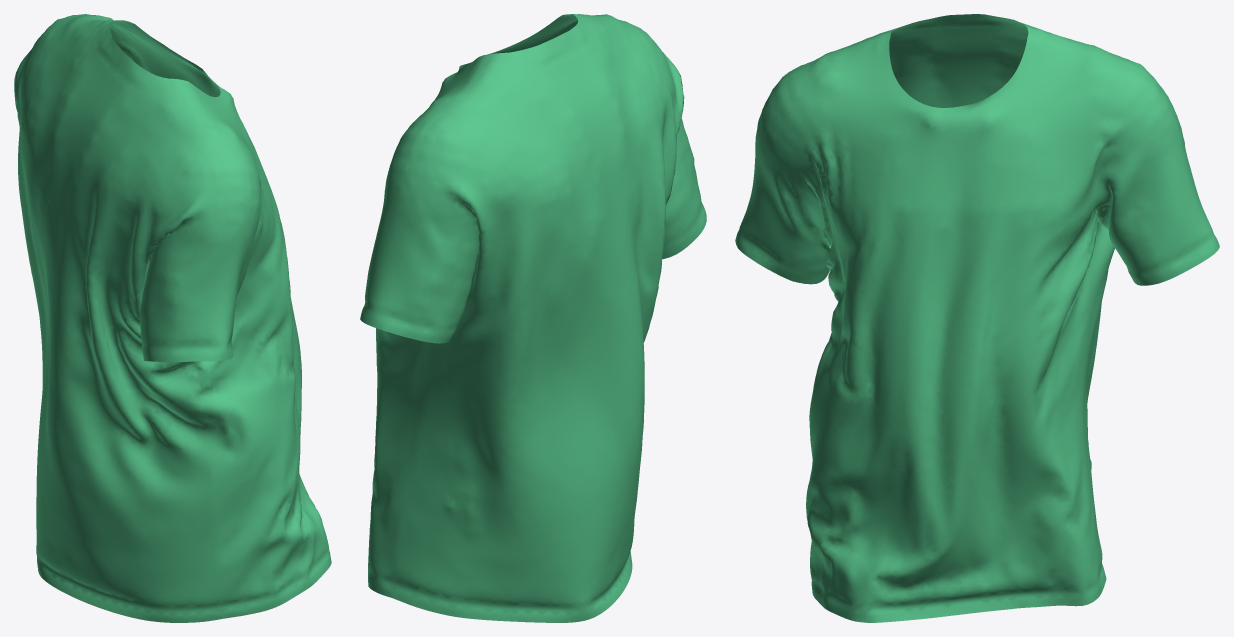
Rendered from 1753942439763-lugaFata.glb.
3 renders of one model, left to right at view 1: azimuth 30°, elevation 25°; view 2: azimuth 150°, elevation 25°; view 3: azimuth 270°, elevation 25°, orthographic. The views are drawn at different scales.
Visible parts, largest first — view 1: Material1722, Material1718, Material1724, Material1720; view 2: Material1722, Material1724, Material1718, Material1720; view 3: Material1718, Material1724, Material1722, Material1720.
Part boxes in pixels (left/top/right/bottom): Material1722: left=14, top=14, right=223, bottom=622; Material1718: left=88, top=14, right=331, bottom=618; Material1724: left=16, top=29, right=260, bottom=362; Material1720: left=102, top=20, right=230, bottom=105; Material1722: left=392, top=14, right=677, bottom=622; Material1724: left=360, top=41, right=706, bottom=343; Material1718: left=368, top=14, right=629, bottom=597; Material1720: left=454, top=14, right=586, bottom=76; Material1718: left=776, top=35, right=1144, bottom=622; Material1724: left=735, top=75, right=1219, bottom=285; Material1722: left=783, top=20, right=1151, bottom=586; Material1720: left=876, top=14, right=1038, bottom=119.
Bounding box in the file's own units: 32.85 × 70.89 × 56.91.
4 materials, 2 textured.
